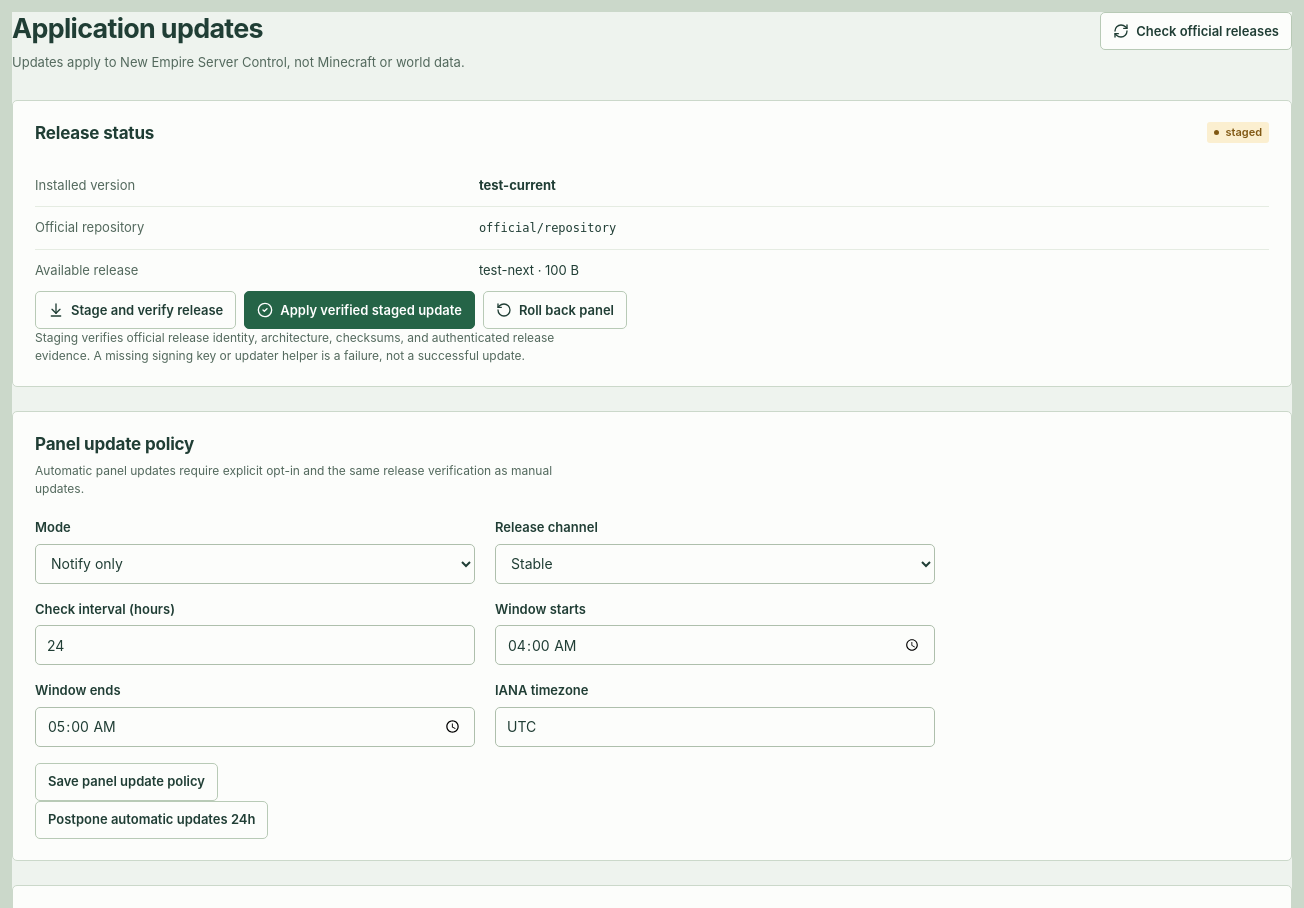
Test: panel update request and permission contracts › postpones by exactly 24 hours and shows the returned deadline without inventing one
The width and height of the screenshot is (1304, 908).
Check: the text "Automatic update postponement deadline" is not shown
Click the button "Postpone automatic updates 24h" at (152, 820), box x1=35 y1=801 x2=268 y2=839
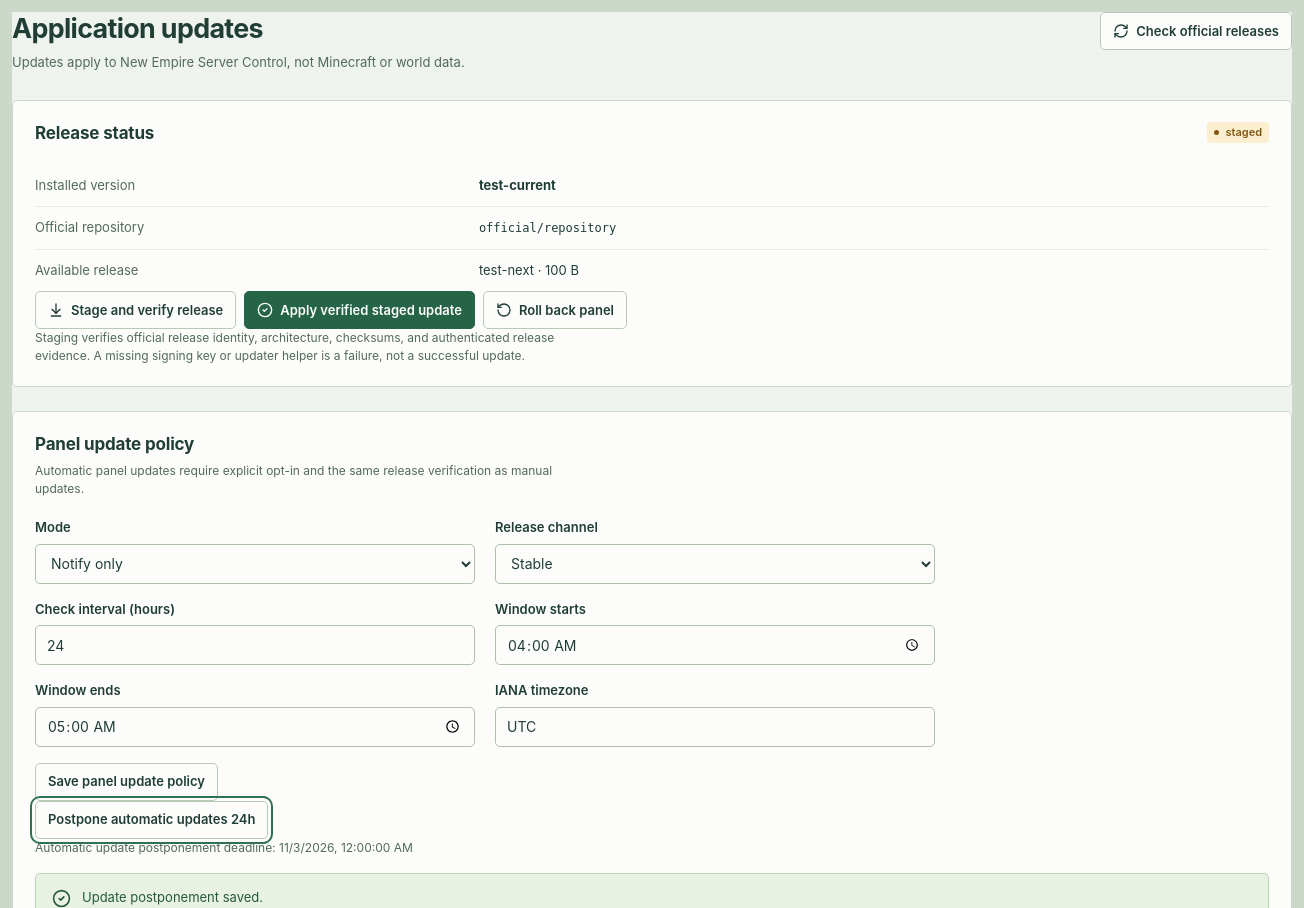
Check: the text "Automatic update postponement deadline" is shown, box x1=35 y1=840 x2=279 y2=855
